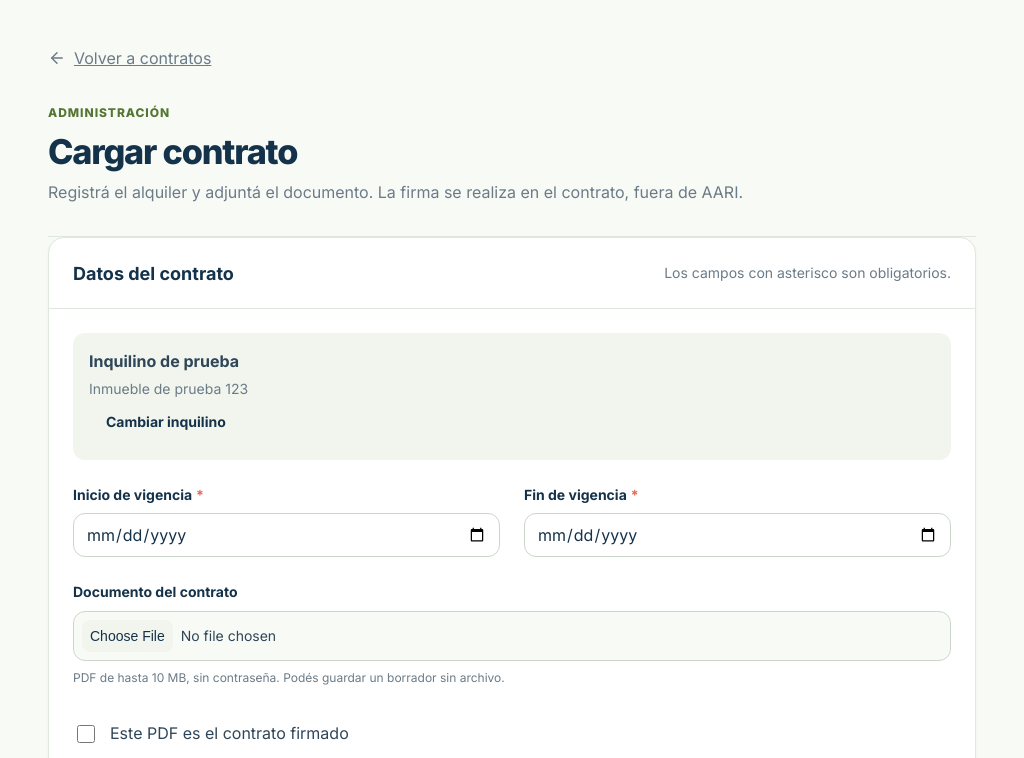
Test: contratos: validaciones y formularios › impide confirmar firmado sin PDF
Expected: the date field labelled "Inicio de vigencia*" is shown, [73,513,500,557]
Click the checkbox at (86, 734), box [77,725,95,743]
(page scrolled)
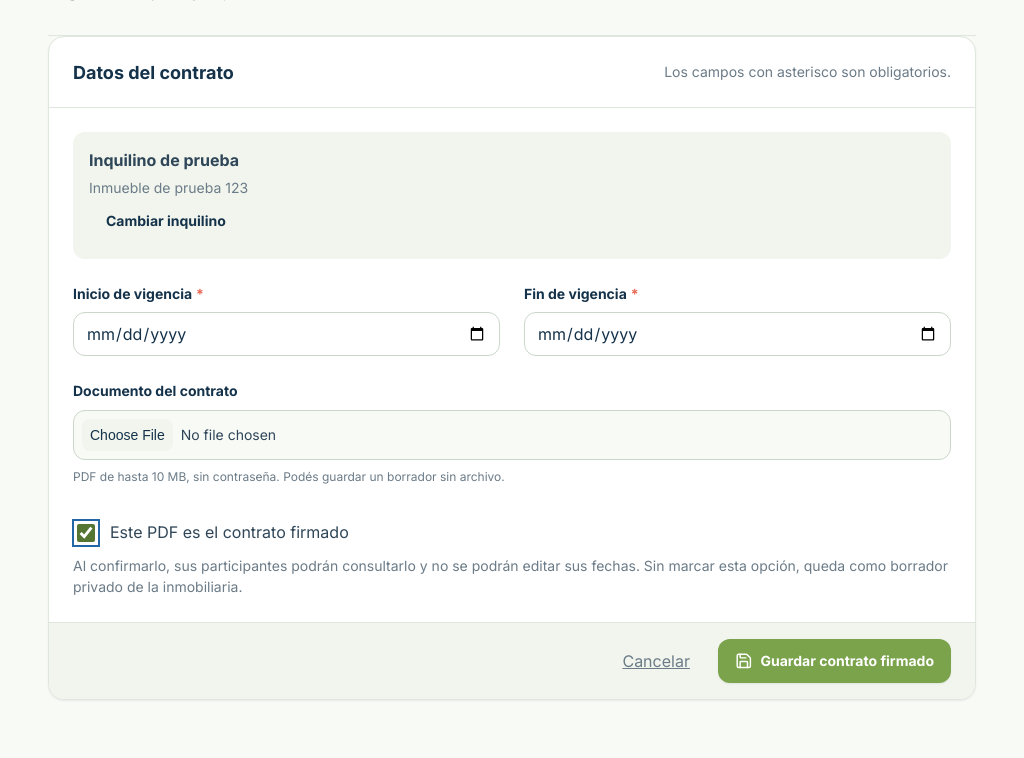
Click the button "Guardar contrato firmado" at (834, 661), box [718,639,951,683]
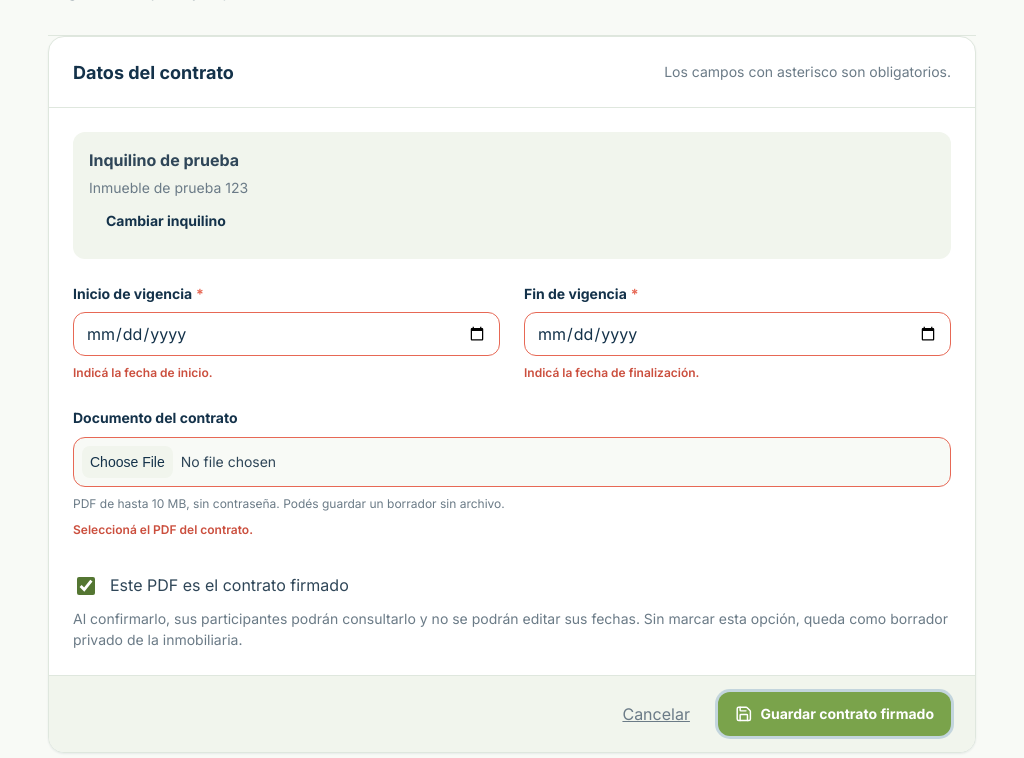
Expected: the text "Seleccioná el PDF del contrato." is shown, [73,522,253,537]
